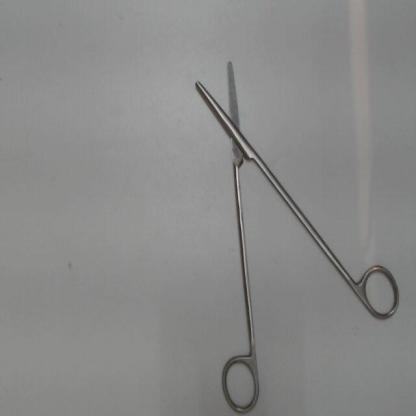9 Metzenbaum Scissors: (193, 54, 404, 414)
